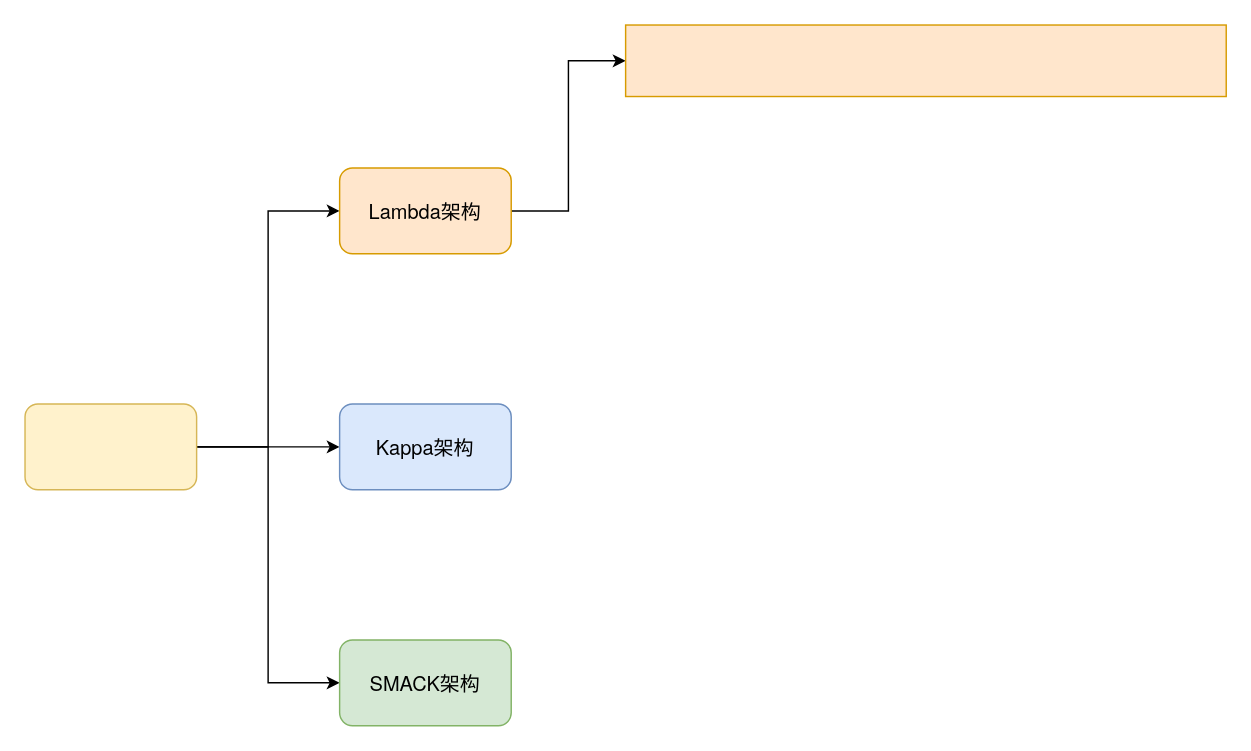
Some shapes in this 1251 by 751 pixel diagram are drawn without their labels. Each missing label, with the centre of its shape:
大数据平台架构: the point at 110,446
是大数据平台里最成熟、最稳定的架构，它的核心思想是：将批处理作业和实时流处理作业分离，各自独立运行，资源互相隔离: the point at 925,60
